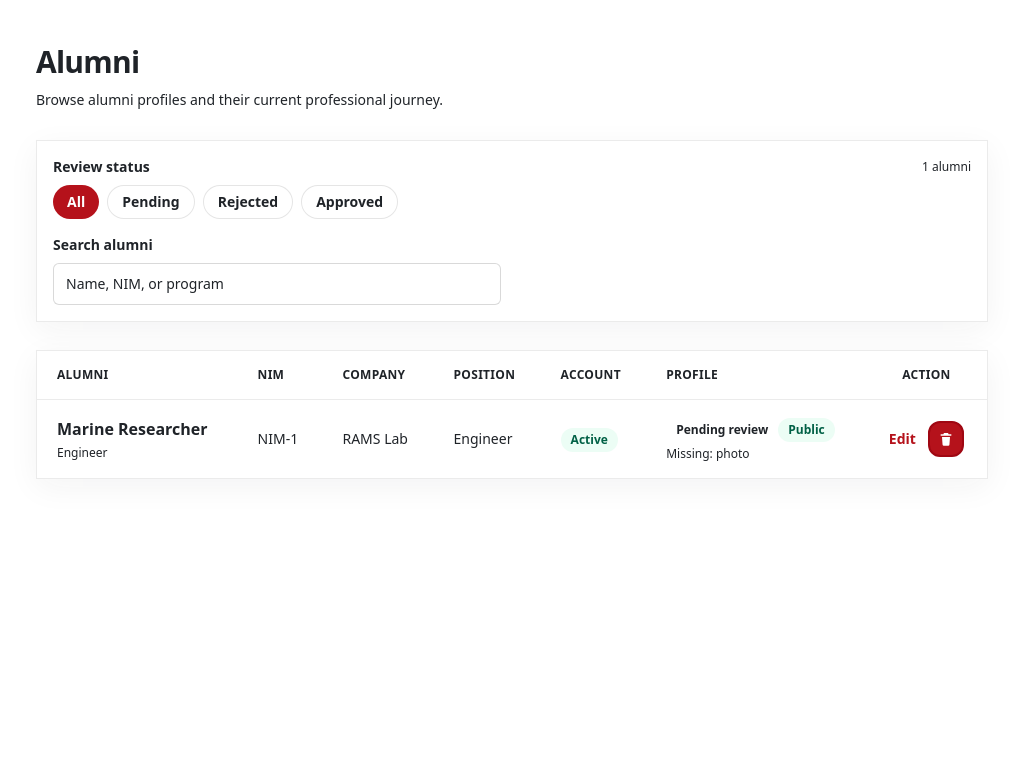
Test: Alumni list › keeps the row and shows an error when deletion fails
expect the text "Marine Researcher" is shown: met, box [57,417,218,441]
Click the button named "Delete": (946, 439) [928,421,964,457]
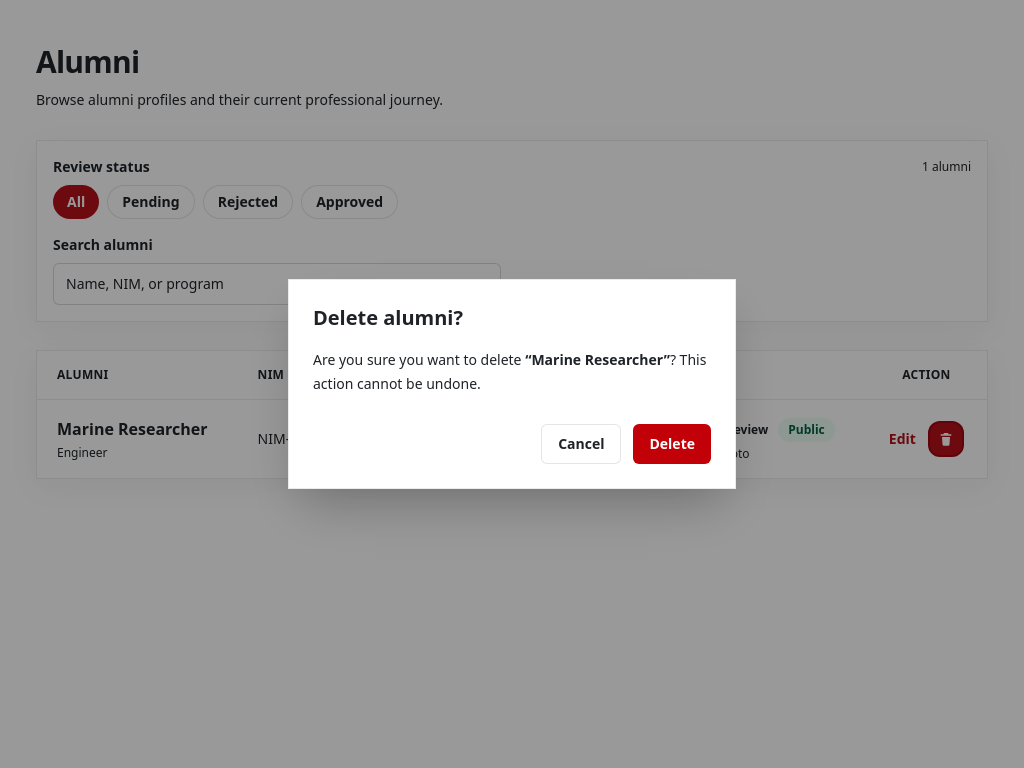
Click the button "Delete": (672, 444) [634,424,711,464]
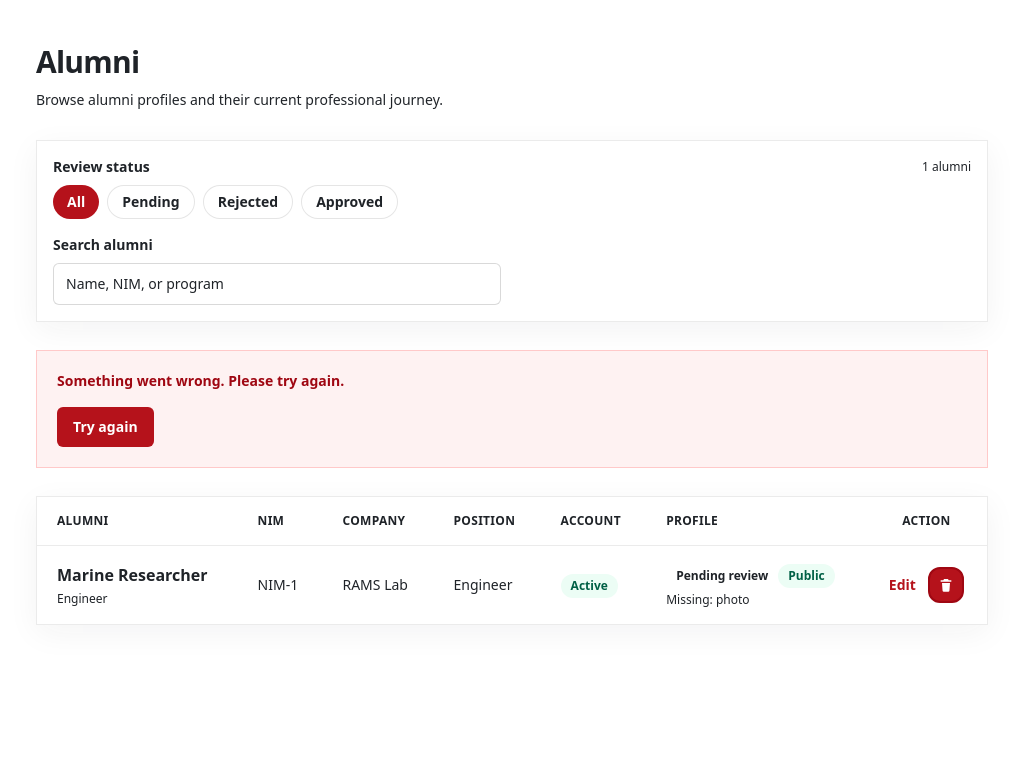
expect the text "Marine Researcher" is shown: met, box [57,563,218,587]
expect the message "Something went wrong. Please try again. Try again" is shown: met, box [36,350,988,468]
expect the message shows "Something went wrong. Please try again.": met, box [57,371,344,390]
